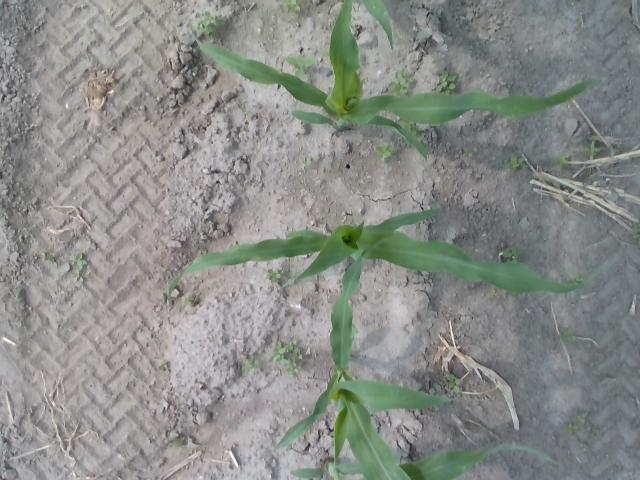Maize: (189, 0, 599, 162), (167, 207, 604, 307), (278, 236, 450, 478), (292, 443, 558, 480), (323, 0, 395, 50)
Weeds: (274, 340, 304, 370), (284, 56, 316, 72), (391, 72, 414, 94), (434, 72, 456, 92), (242, 353, 258, 373), (559, 154, 581, 168), (202, 12, 224, 26), (60, 264, 80, 277), (446, 373, 462, 389), (377, 142, 393, 158), (69, 252, 85, 268), (556, 330, 574, 344), (181, 291, 199, 304), (503, 244, 519, 258), (42, 253, 58, 267), (510, 155, 524, 168), (284, 2, 302, 12), (198, 23, 214, 33), (567, 423, 579, 434), (268, 270, 280, 281), (578, 411, 588, 424), (471, 149, 477, 156)
